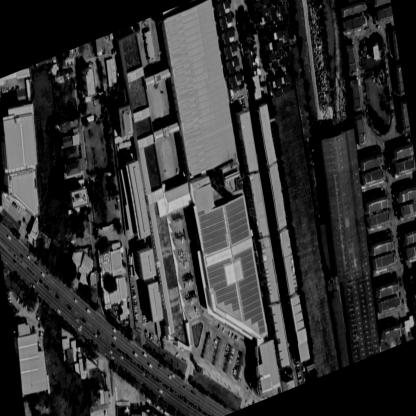solar-pv-panel: (233, 247, 266, 334), (206, 258, 240, 311), (198, 206, 228, 255), (225, 197, 249, 246)
